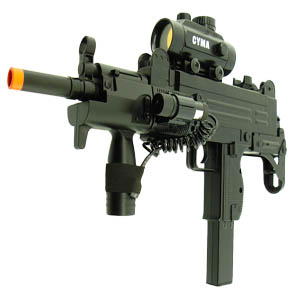rifle: (7, 12, 283, 263)
